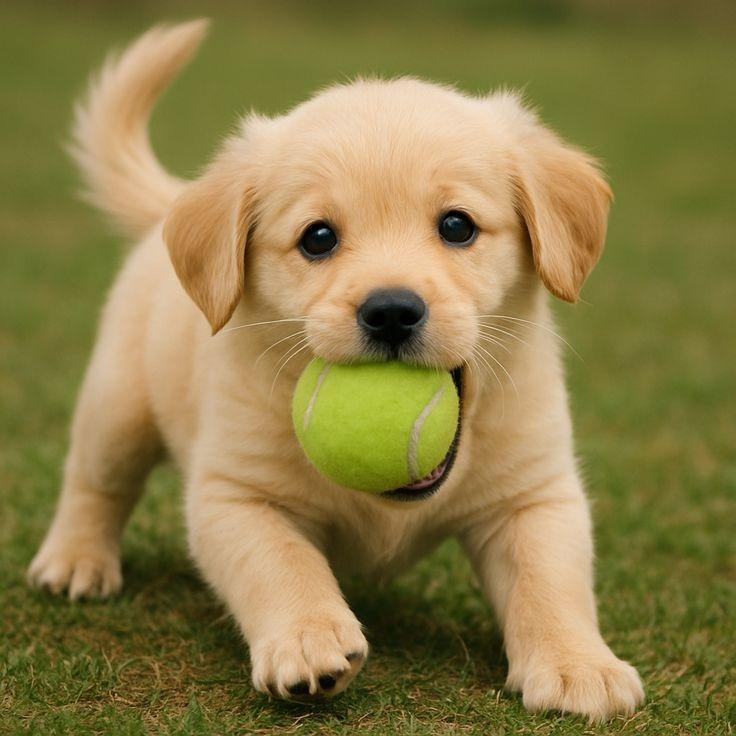puppy-dog: (25, 15, 646, 721)
